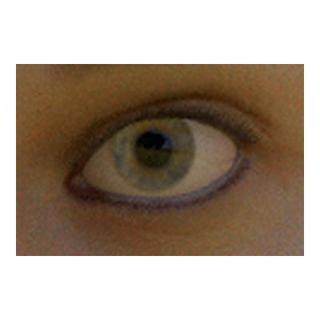pupil: (136, 131, 171, 166)
